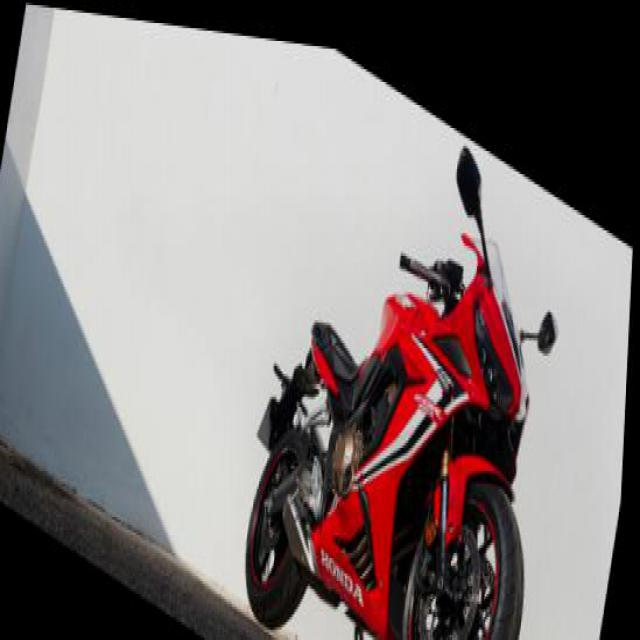CBR650R: (237, 100, 580, 637)
